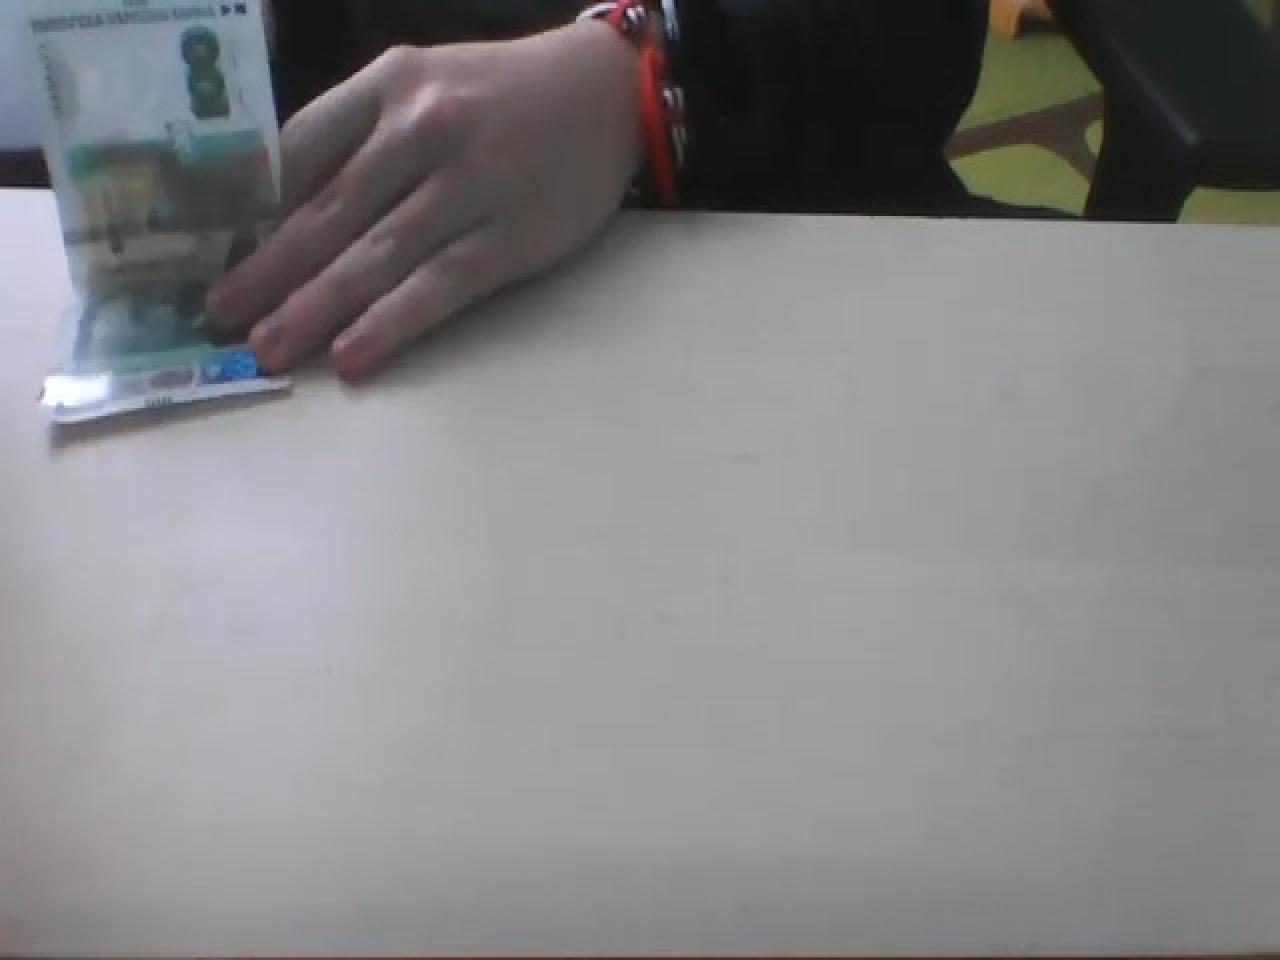100leva: (24, 0, 294, 427)
